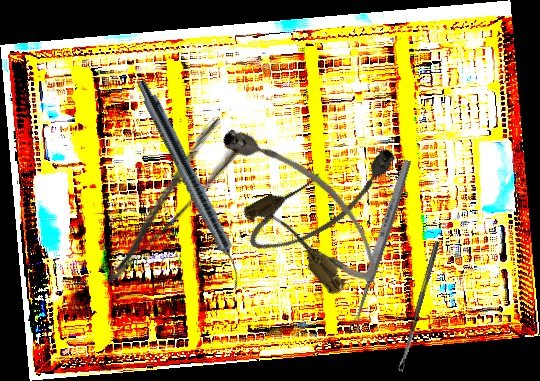Cannula: (208, 100, 393, 305), (235, 138, 411, 262)
Dressing Forceps: (81, 115, 249, 287)
Handpiece: (129, 76, 253, 291)
Surgical Spoon: (346, 158, 414, 334), (397, 240, 440, 372)
